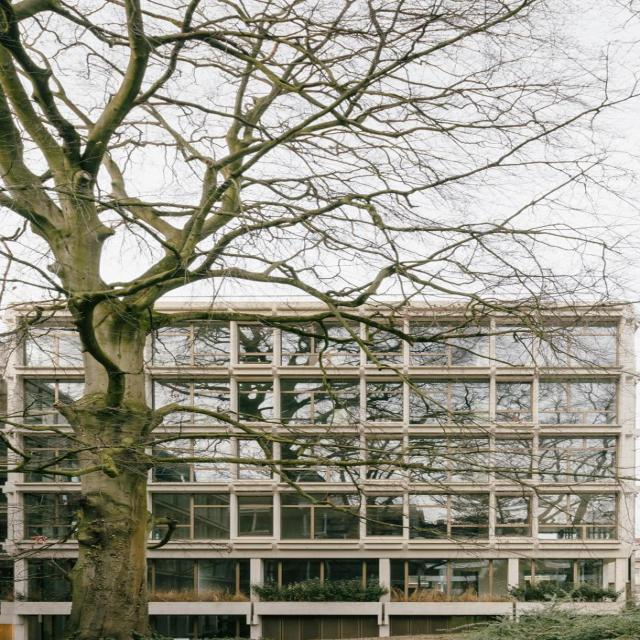door: (264, 616, 380, 640), (153, 616, 245, 640), (393, 617, 494, 635)
plant: (436, 597, 638, 639), (251, 577, 391, 602), (502, 578, 624, 602), (390, 587, 511, 603), (149, 586, 251, 603)
wall: (12, 303, 636, 640)
windows: (155, 434, 618, 484), (150, 378, 620, 426), (147, 492, 618, 539), (146, 323, 619, 368), (151, 556, 607, 602), (23, 437, 81, 483), (26, 379, 81, 424), (25, 494, 76, 540), (28, 326, 84, 366), (25, 557, 74, 600)
